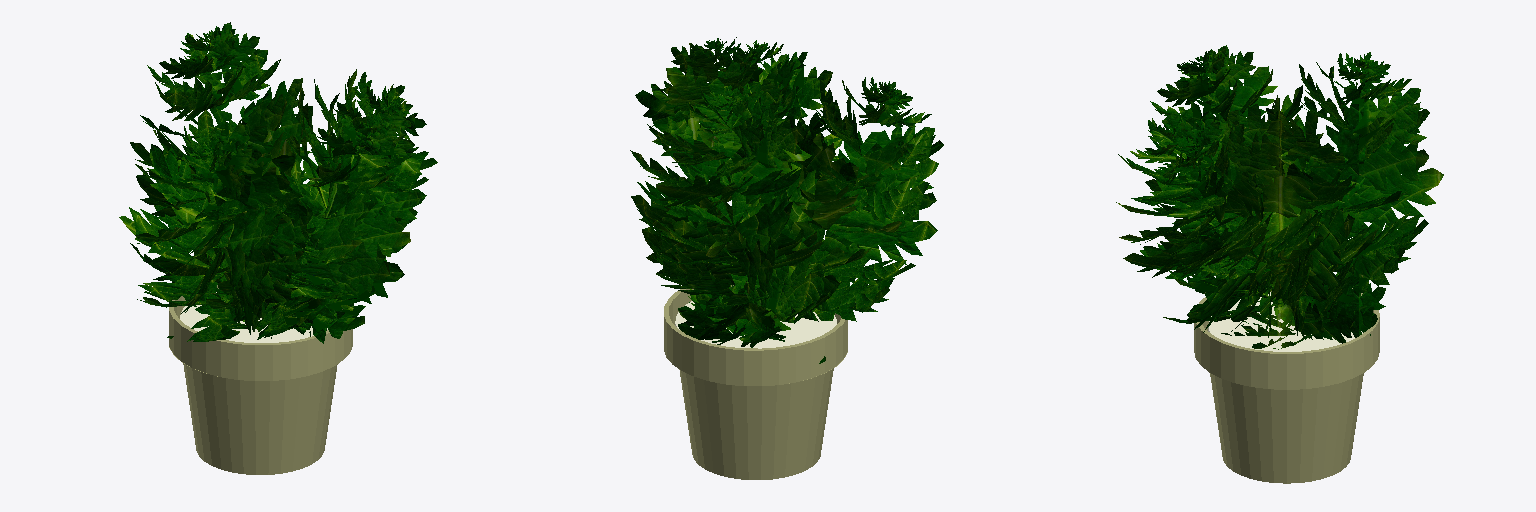
3 renders of one model, left to right at view 1: azimuth 30°, elevation 25°; view 2: azimuth 150°, elevation 25°; view 3: azimuth 270°, elevation 25°, orthographic.
Parts seen in each view (by area): view 1: (null); view 2: (null); view 3: (null).
Part boxes in pixels (x1,y1,x2,y2): (null): (119,22,437,474); (null): (630,37,943,479); (null): (1116,45,1443,483).
Bounding box in the file's own units: 57.13 × 74.02 × 56.11.
3 materials, 1 textured.